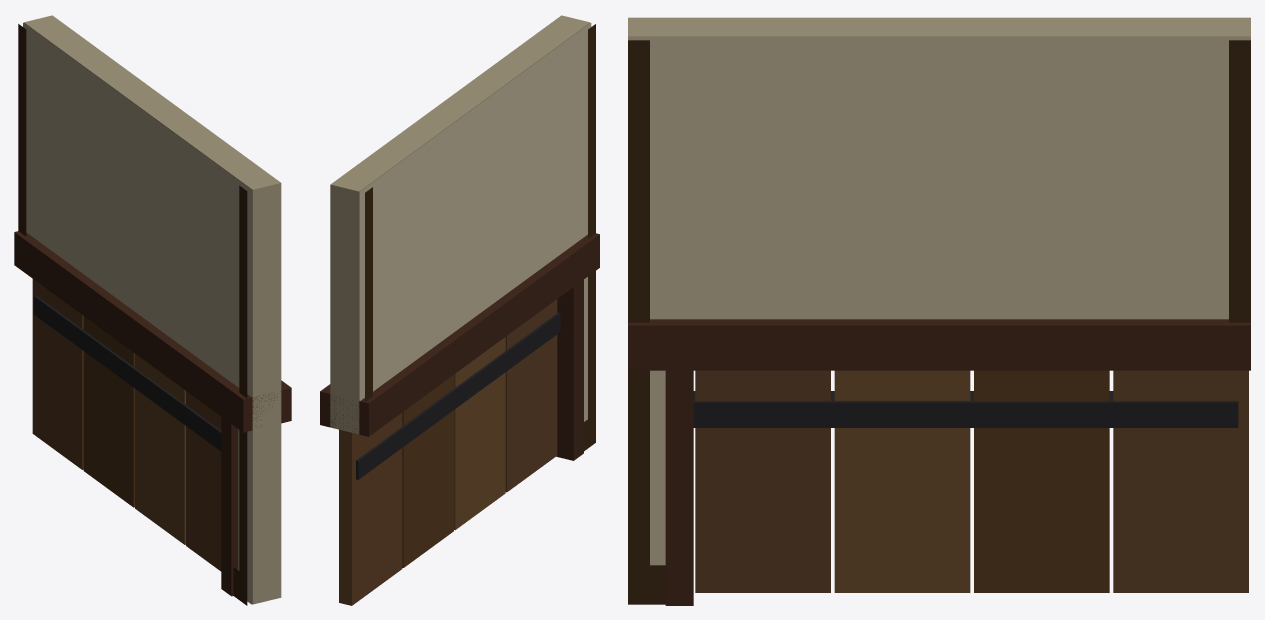
File: wall-halftimber-door-shut-high-r.glb
3 renders of one model, left to right at view 1: azimuth 30°, elevation 25°; view 2: azimuth 150°, elevation 25°; view 3: azimuth 270°, elevation 25°, orthographic. The views are drawn at different scales.
Parts seen in each view (by area): view 1: wall-halftimber-door-shut-high-r; view 2: wall-halftimber-door-shut-high-r; view 3: wall-halftimber-door-shut-high-r.
Boxes of the visible parts, box(x1,y1,x2,y2) form: wall-halftimber-door-shut-high-r: box(14, 15, 291, 605); wall-halftimber-door-shut-high-r: box(320, 15, 599, 605); wall-halftimber-door-shut-high-r: box(628, 17, 1250, 605).
Size of the model in its own units: 0.122 by 1 by 1.
